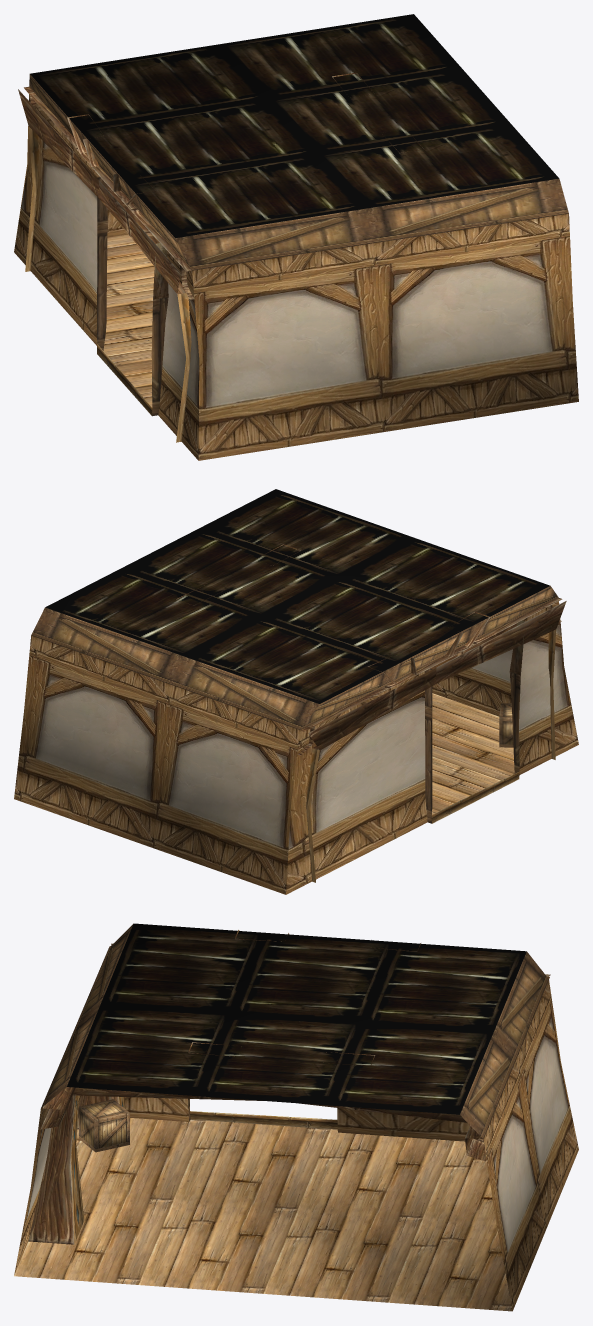
File: stormwind_061.fbx
3 views of the same model, one above another, from view 1: azimuth 30°, elevation 25°; view 2: azimuth 150°, elevation 25°; view 3: azimuth 270°, elevation 25° (orthographic). The views are drawn at different scales.
Visible parts, largest first — view 1: stormwind_061_48, stormwind_061_50, stormwind_061_56, stormwind_061_53, stormwind_061_51; view 2: stormwind_061_48, stormwind_061_50, stormwind_061_56, stormwind_061_53, stormwind_061_51, stormwind_061_59; view 3: stormwind_061_51, stormwind_061_50, stormwind_061_48, stormwind_061_53, stormwind_061_56, stormwind_061_59.
Part boxes in pixels (left/top/right/bottom): stormwind_061_48: left=14, top=88, right=578, bottom=460; stormwind_061_50: left=30, top=14, right=558, bottom=237; stormwind_061_56: left=29, top=74, right=568, bottom=416; stormwind_061_53: left=18, top=72, right=423, bottom=442; stormwind_061_51: left=103, top=234, right=154, bottom=407; stormwind_061_48: left=14, top=598, right=578, bottom=894; stormwind_061_50: left=45, top=489, right=550, bottom=703; stormwind_061_56: left=31, top=586, right=558, bottom=823; stormwind_061_53: left=176, top=544, right=566, bottom=882; stormwind_061_51: left=432, top=693, right=514, bottom=814; stormwind_061_59: left=499, top=703, right=513, bottom=747; stormwind_061_51: left=14, top=1118, right=512, bottom=1311; stormwind_061_50: left=67, top=923, right=526, bottom=1114; stormwind_061_48: left=14, top=980, right=578, bottom=1310; stormwind_061_53: left=28, top=929, right=550, bottom=1244; stormwind_061_56: left=41, top=924, right=548, bottom=1138; stormwind_061_59: left=79, top=1099, right=129, bottom=1152.
Size of the model in its own units: 13.87 by 6.35 by 16.72.
